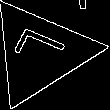L_SE: (8, 27, 73, 77)
